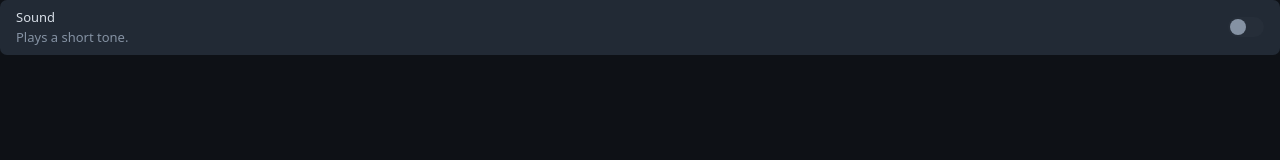
Test: SwitchRow › toggles when the row's text is clicked
Click the text with class "setting-label" at [36, 17], box x1=16 y1=8 x2=55 y2=26
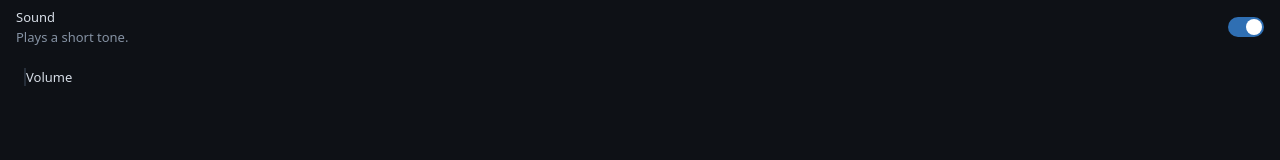
Check: the switch labelled "Sound Plays a short tone." is checked, box x1=1228 y1=17 x2=1264 y2=37
